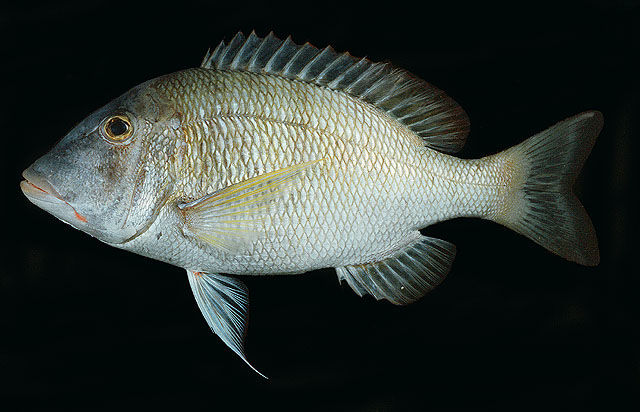fish: (19, 29, 600, 380)
